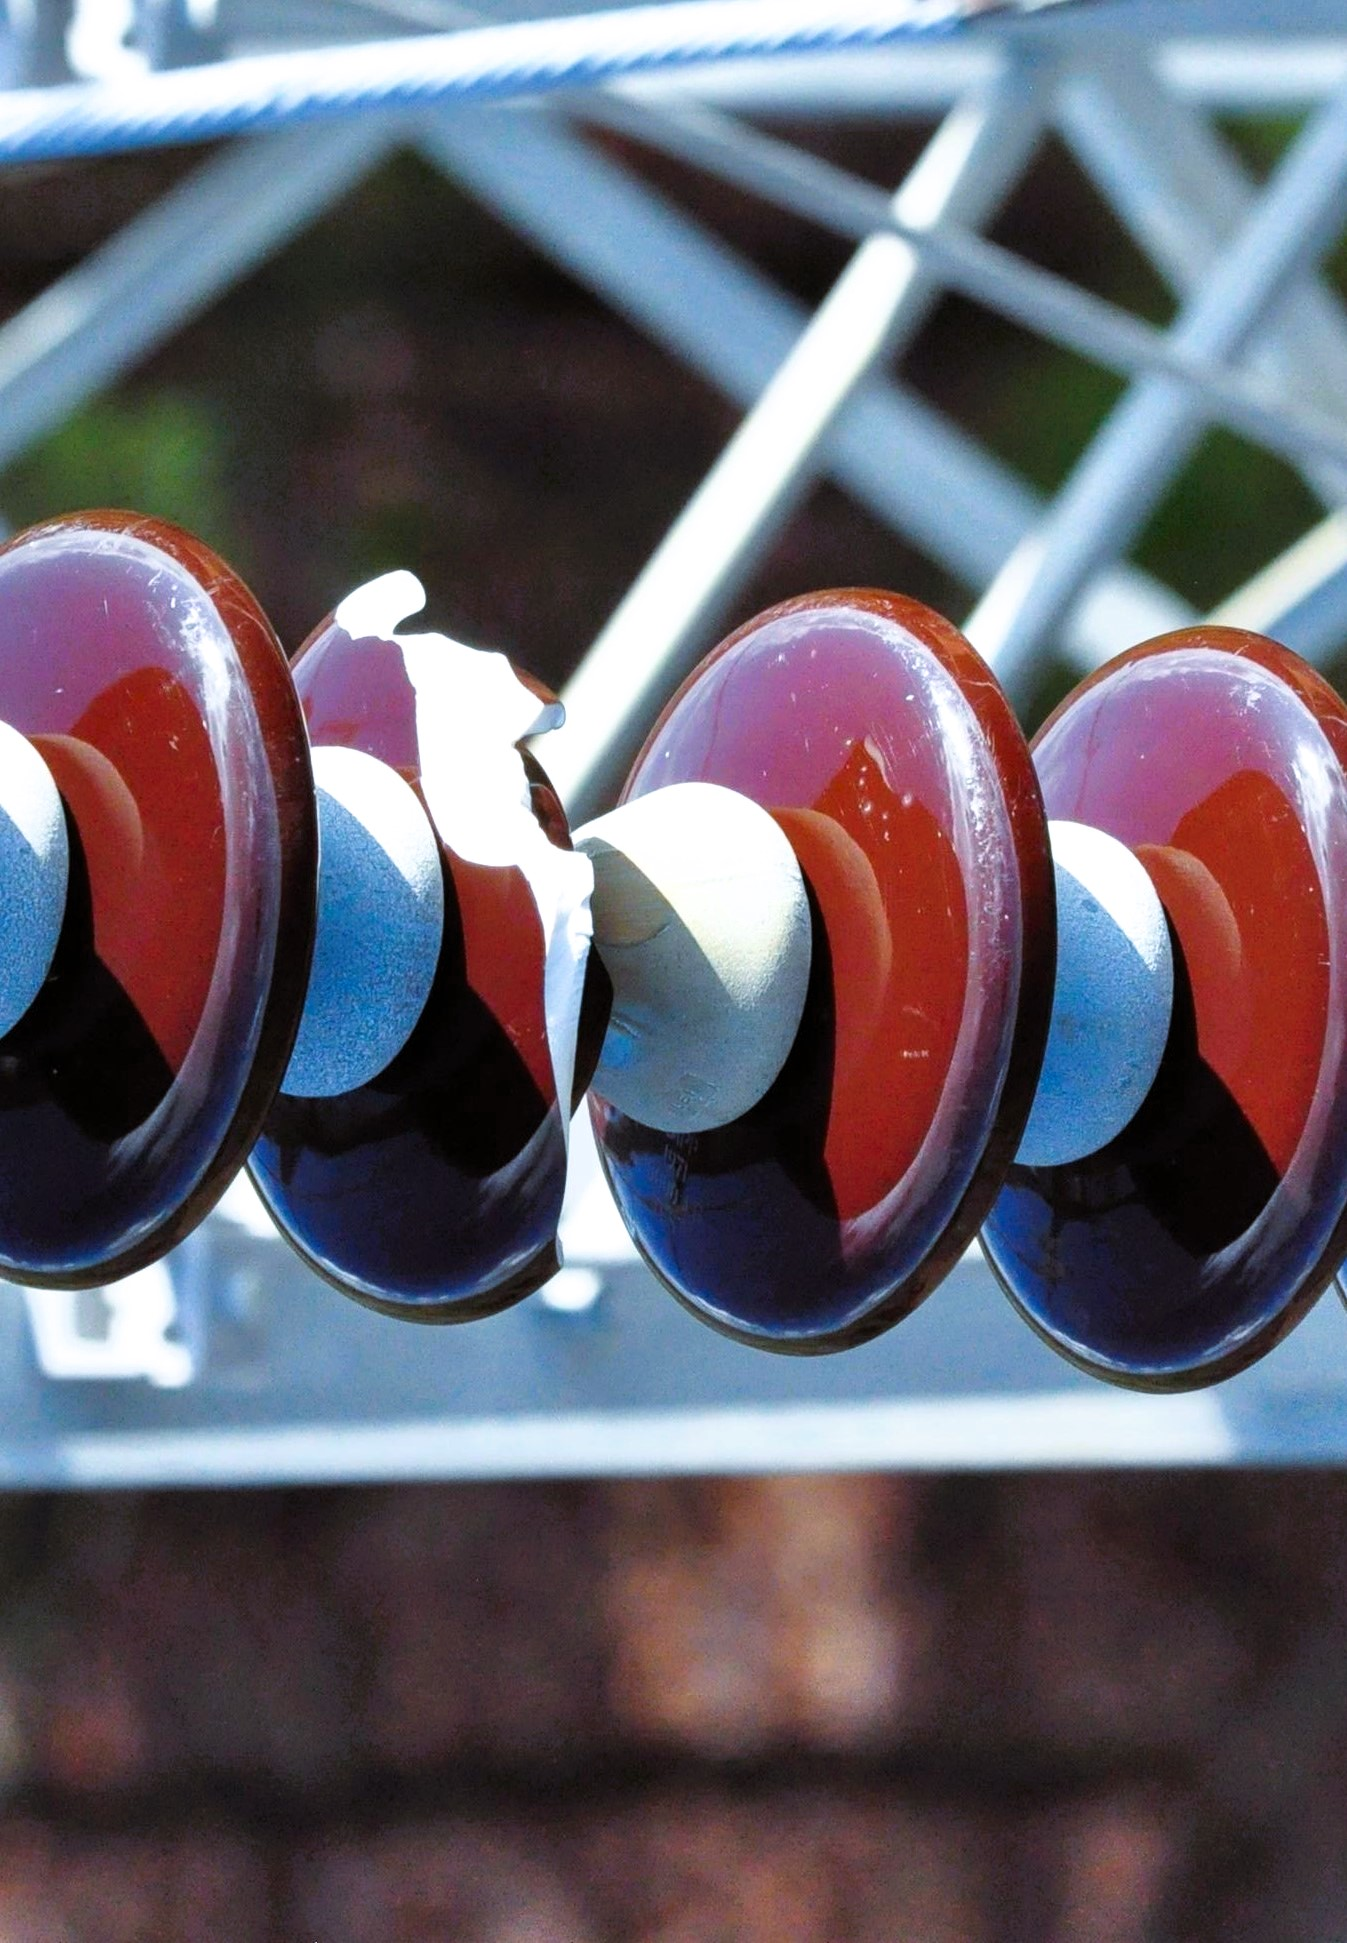insulator breakage: (251, 543, 625, 1341)
